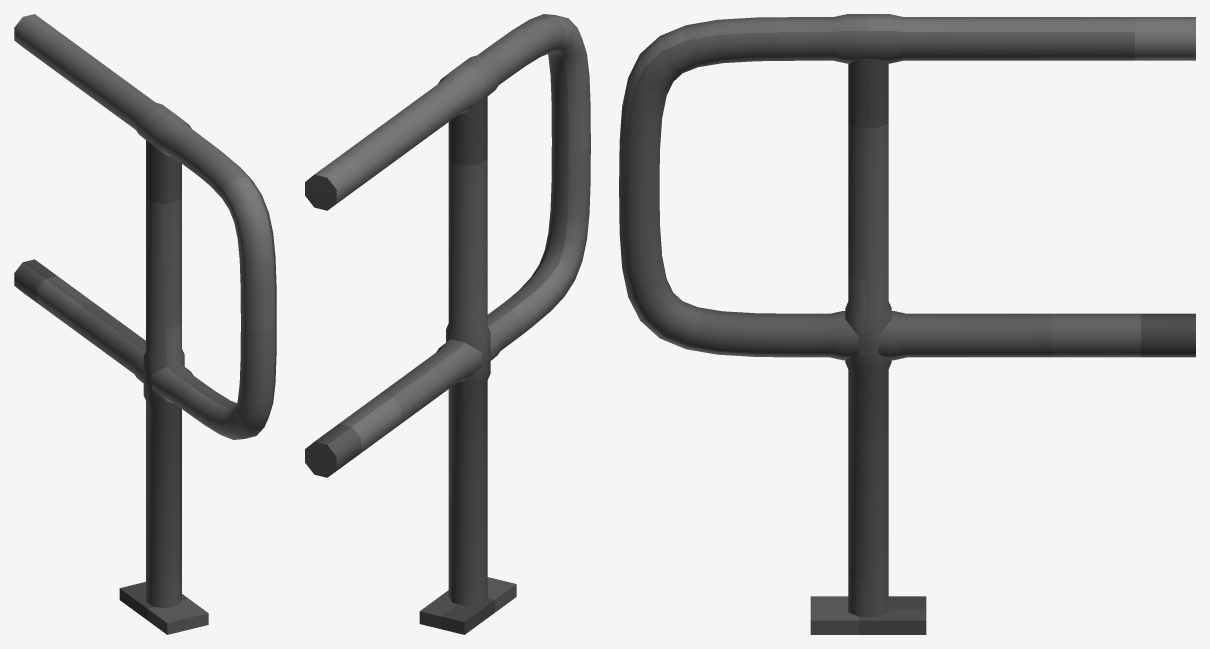
Rendered from railing_end_self.obj.
3 views of the same model, side by side, from view 1: azimuth 30°, elevation 25°; view 2: azimuth 150°, elevation 25°; view 3: azimuth 270°, elevation 25° (orthographic). The views are drawn at different scales.
Visible parts, largest first — view 1: railend_self; view 2: railend_self; view 3: railend_self.
Boxes of the visible parts, <box> form: railend_self: <box>14,14,276,634</box>; railend_self: <box>305,14,590,634</box>; railend_self: <box>619,14,1195,634</box>.
Size of the model in its own units: 0.088 by 1.02 by 0.8809.
